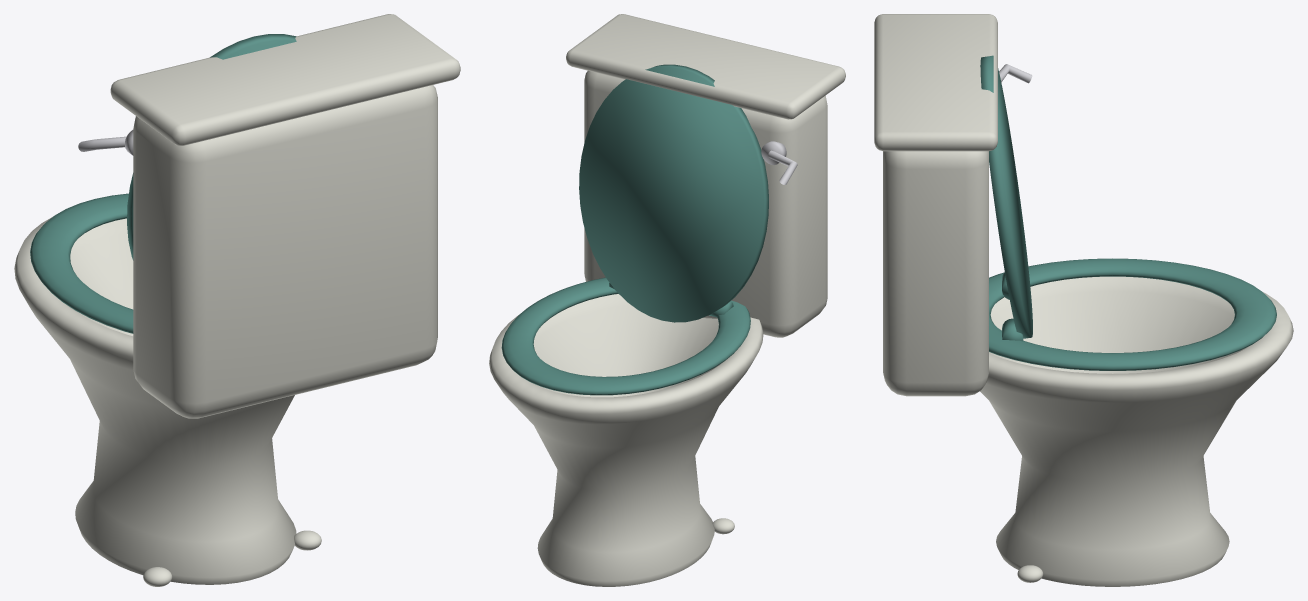
File: child-toilet.glb
3 renders of one model, left to right at view 1: azimuth 30°, elevation 25°; view 2: azimuth 150°, elevation 25°; view 3: azimuth 270°, elevation 25°, orthographic. The views are drawn at different scales.
Visible parts, largest first — view 1: Würfel, lathe, Würfel.001, Torus.001, Zylinder.001; view 2: lathe, Zylinder.001, Würfel, Würfel.001, Torus.001; view 3: lathe, Würfel, Würfel.001, Torus.001, Zylinder.001.
Part boxes in pixels (bbox=[...]): Würfel: bbox=[133, 85, 437, 418]; lathe: bbox=[14, 217, 296, 584]; Würfel.001: bbox=[110, 14, 460, 145]; Torus.001: bbox=[30, 193, 133, 333]; Zylinder.001: bbox=[127, 34, 296, 260]; lathe: bbox=[489, 294, 763, 586]; Zylinder.001: bbox=[579, 64, 768, 322]; Würfel: bbox=[584, 70, 827, 337]; Würfel.001: bbox=[566, 14, 845, 119]; Torus.001: bbox=[501, 277, 750, 395]; lathe: bbox=[980, 276, 1293, 586]; Würfel: bbox=[883, 151, 988, 396]; Würfel.001: bbox=[874, 14, 997, 151]; Torus.001: bbox=[989, 258, 1276, 370]; Zylinder.001: bbox=[980, 55, 1032, 338].
Bounding box in the file's own units: 0.5177 × 0.909 × 0.7122.
